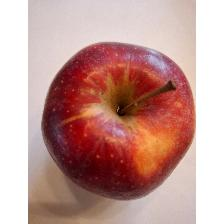Apfel: (40, 36, 196, 202)
